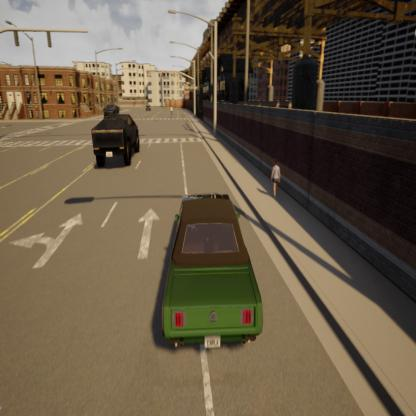Cars: (151, 181, 268, 364), (93, 110, 146, 177), (96, 101, 123, 120), (144, 100, 153, 114)
Pedestrian: (267, 154, 287, 203)
